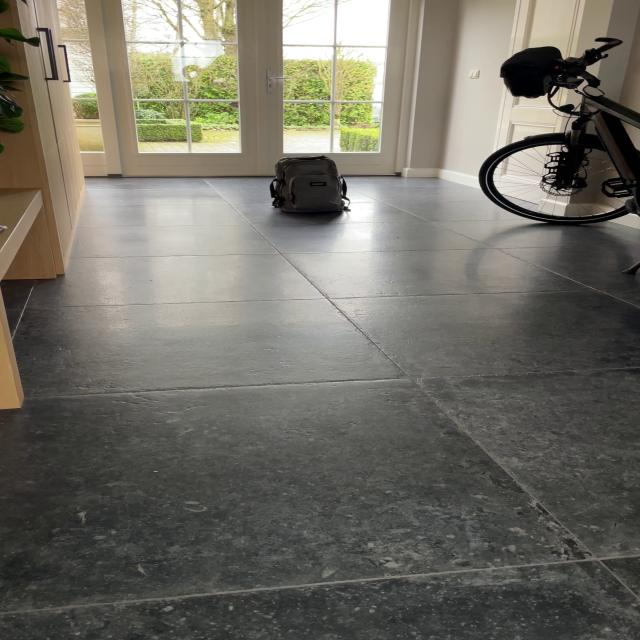backpack: (263, 152, 351, 217)
